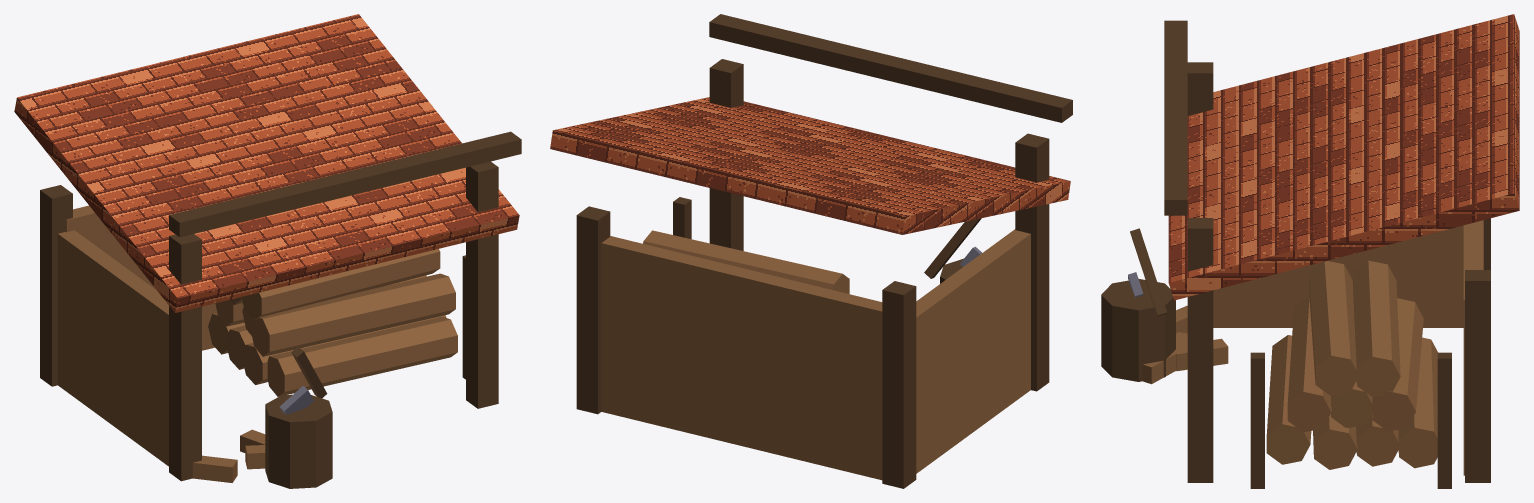
Rendered from woodcutter_t1.glb.
3 renders of one model, left to right at view 1: azimuth 30°, elevation 25°; view 2: azimuth 150°, elevation 25°; view 3: azimuth 270°, elevation 25°, orthographic. The views are drawn at different scales.
Parts seen in each view (by area): view 1: slanted_roof, side_wall, roof_edge_beam, log_1_0, log_0_0, post_1, post_0, chopping_block, log_2_0, post_2, back_wall, log_0_1 (+6 smaller); view 2: back_wall, slanted_roof, side_wall, roof_edge_beam, post_2, post_3, post_0, log_2_0, post_1, axe_handle, pile_stake_0; view 3: slanted_roof, side_wall, post_1, chopping_block, log_2_1, post_3, log_2_0, roof_edge_beam, log_1_0, log_1_2, log_0_3, log_0_0 (+10 smaller).
Part boxes in pixels (left/top/right/bottom): slanted_roof: left=14, top=14, right=519, bottom=312; side_wall: left=57, top=230, right=168, bottom=466; roof_edge_beam: left=169, top=131, right=521, bottom=237; log_1_0: left=250, top=273, right=455, bottom=356; log_0_0: left=267, top=316, right=457, bottom=396; post_1: left=466, top=161, right=498, bottom=408; post_0: left=169, top=234, right=201, bottom=481; chopping_block: left=265, top=394, right=332, bottom=488; log_2_0: left=241, top=249, right=440, bottom=319; post_2: left=40, top=185, right=72, bottom=386; back_wall: left=66, top=205, right=217, bottom=350; log_0_1: left=242, top=315, right=446, bottom=384; back_wall: left=601, top=236, right=882, bottom=480; slanted_roof: left=550, top=97, right=1070, bottom=234; side_wall: left=916, top=229, right=1030, bottom=473; roof_edge_beam: left=709, top=14, right=1072, bottom=122; post_2: left=882, top=281, right=916, bottom=488; post_3: left=576, top=206, right=610, bottom=414; post_0: left=1015, top=133, right=1049, bottom=391; log_2_0: left=643, top=230, right=849, bottom=293; post_1: left=709, top=59, right=743, bottom=250; axe_handle: left=924, top=218, right=981, bottom=278; pile_stake_0: left=673, top=197, right=691, bottom=239; slanted_roof: left=1168, top=14, right=1519, bottom=300; side_wall: left=1213, top=225, right=1463, bottom=327; post_1: left=1187, top=218, right=1213, bottom=482; chopping_block: left=1101, top=279, right=1175, bottom=381; log_2_1: left=1353, top=260, right=1400, bottom=397; post_3: left=1465, top=270, right=1490, bottom=482; log_2_0: left=1309, top=261, right=1356, bottom=396; roof_edge_beam: left=1164, top=20, right=1187, bottom=215; log_1_0: left=1287, top=296, right=1331, bottom=432; log_1_2: left=1372, top=298, right=1423, bottom=431; log_0_3: left=1398, top=337, right=1437, bottom=468; log_0_0: left=1266, top=335, right=1311, bottom=464.
Size of what is drawn, in the model's own units: 2.95 by 2.27 by 2.91.
Materials: 4 (1 with a texture image).
